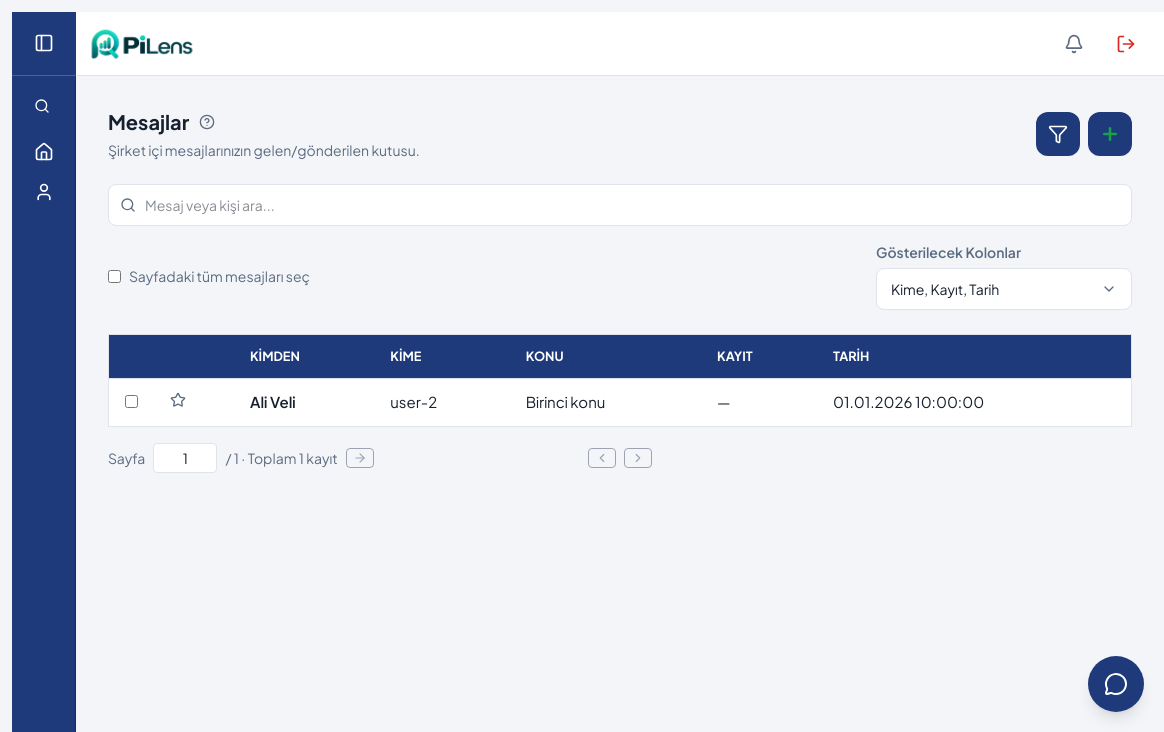
Test: MessagesListPage › sayfadaki tumunu sec checkboxu tum satirlari secer
Expected: the text "Birinci konu" is shown, [526,392,605,411]
Click the checkbox labelled "Sayfadaki tüm mesajları seç" at [114, 276], box [108,270,121,282]
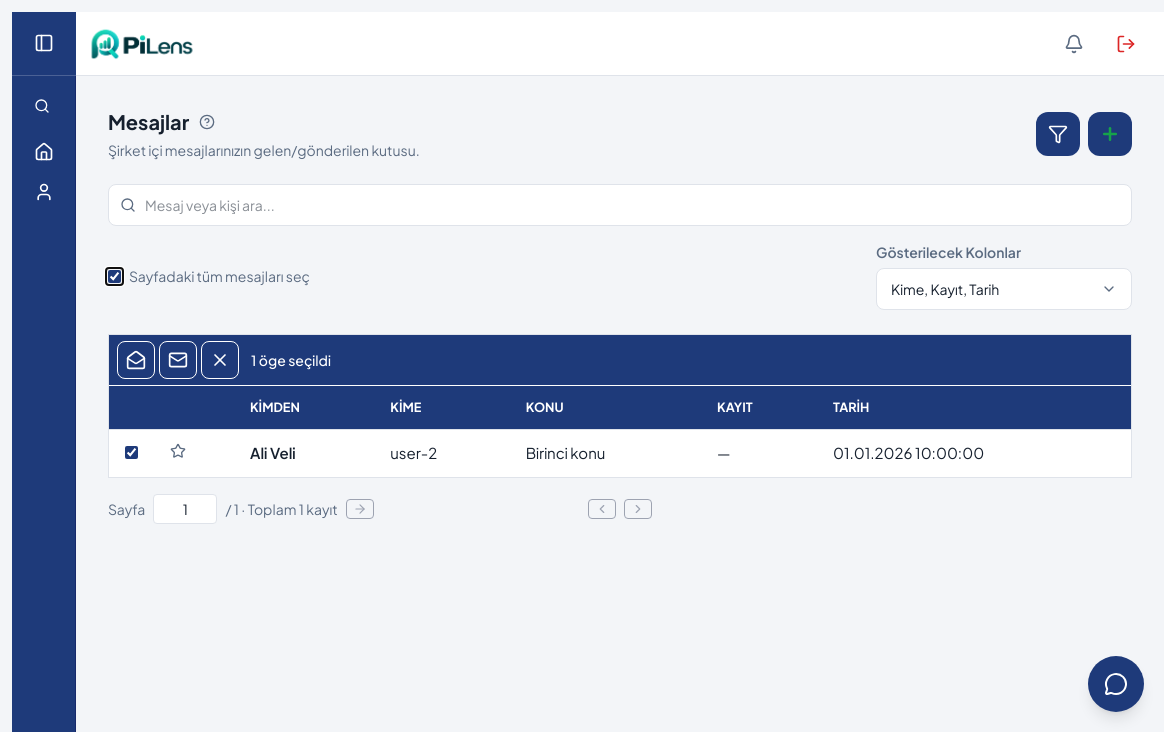
Expected: the button named "Okundu olarak işaretle" is shown, [117,341,155,379]
